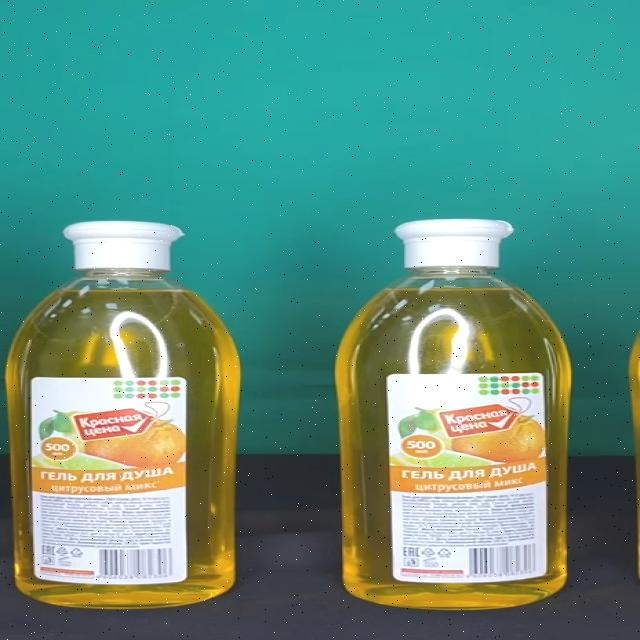Bottle: (332, 218, 571, 609), (5, 221, 242, 609)
Cap: (63, 222, 186, 270), (394, 220, 514, 268)
